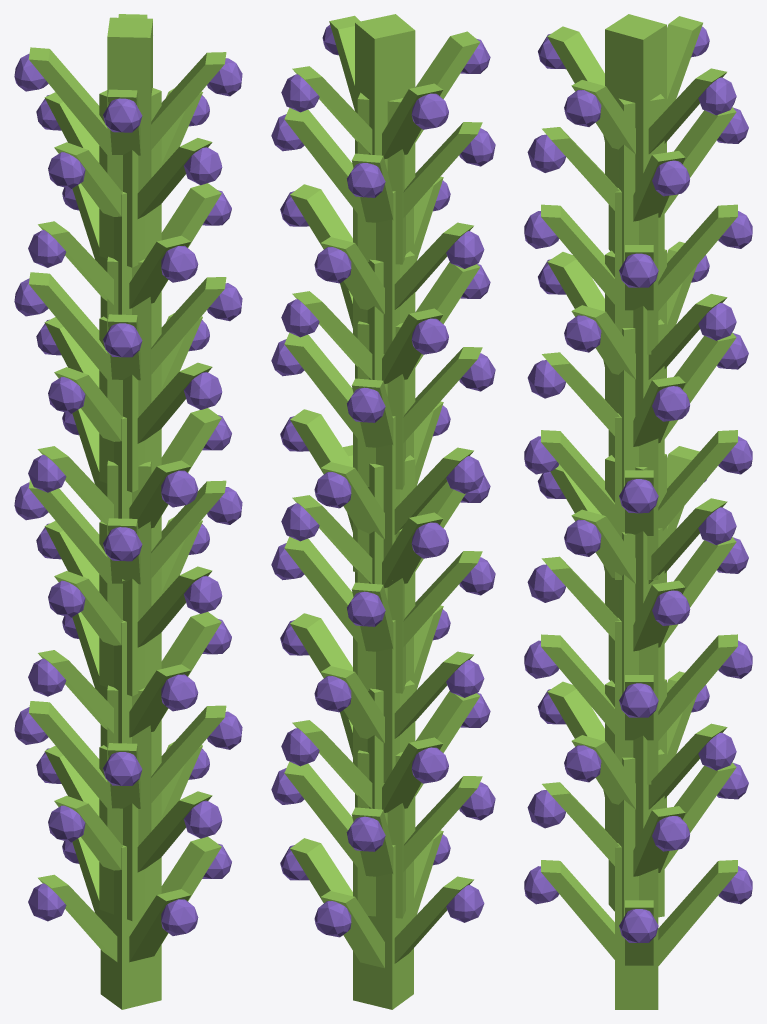
File: herb8.fbx
3 views of the same model, side by side, from view 1: azimuth 30°, elevation 25°; view 2: azimuth 150°, elevation 25°; view 3: azimuth 270°, elevation 25° (orthographic).
Visible parts, largest first — view 1: Sphere_17; view 2: Sphere_17; view 3: Sphere_17.
Boxes of the visible parts, x1=… form: Sphere_17: x1=14, y1=14, x2=242, y2=1009; Sphere_17: x1=271, y1=14, x2=495, y2=1009; Sphere_17: x1=524, y1=14, x2=752, y2=1009.
Size of the model in its own units: 30.48 by 145 by 30.89.
